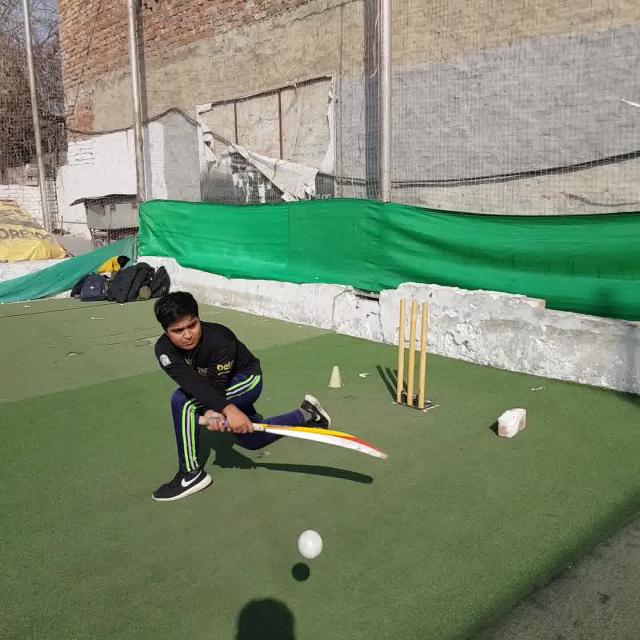ball: (298, 529, 324, 559)
bat: (195, 416, 386, 462)
